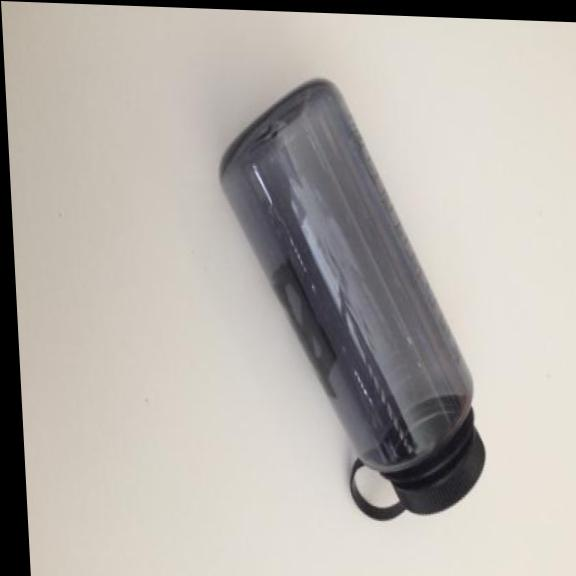Plastik: (209, 69, 497, 547)
